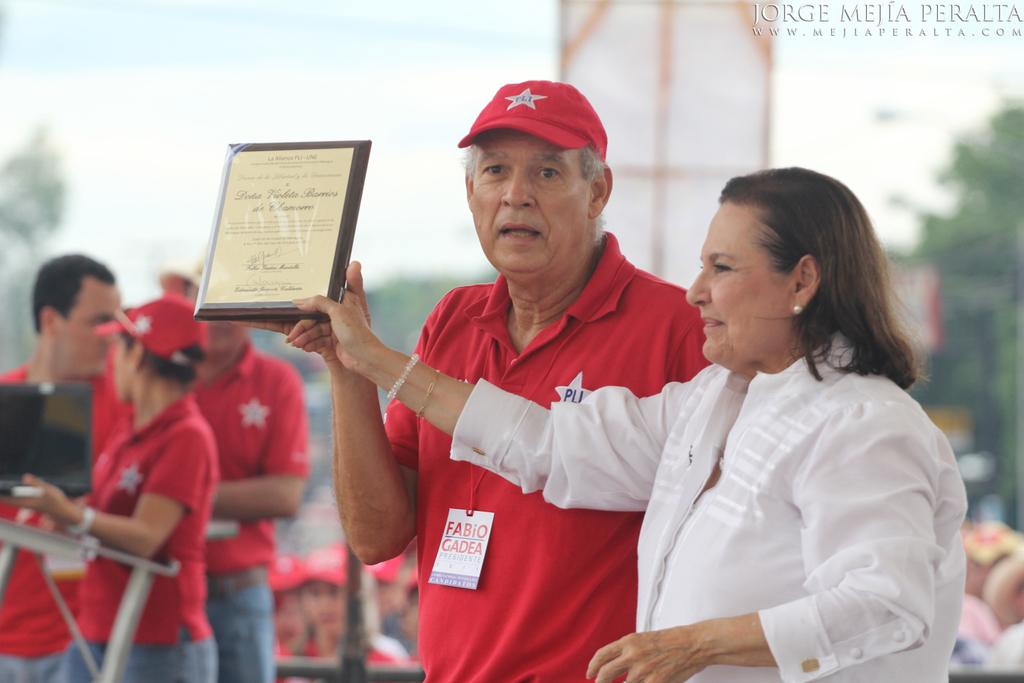Hat: (456, 82, 606, 158), (95, 292, 209, 365), (157, 246, 206, 299), (300, 539, 344, 582), (264, 546, 304, 588), (360, 546, 403, 582)
